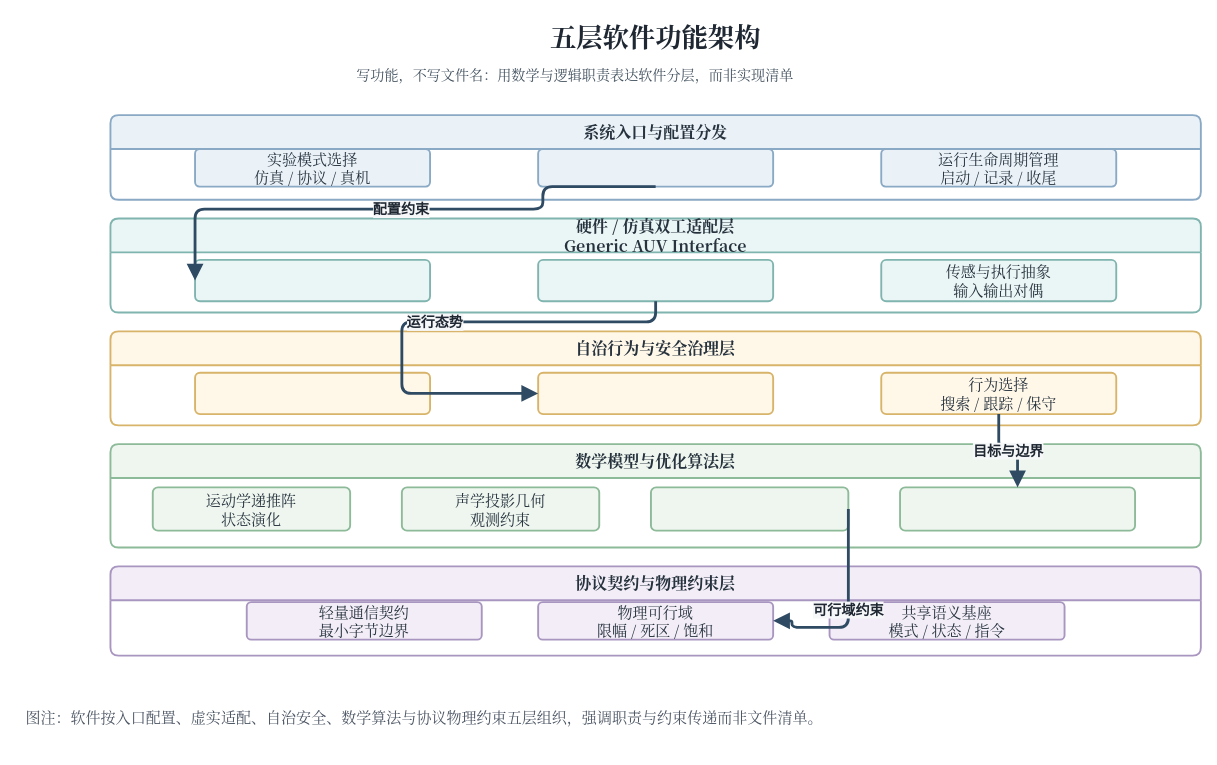
Image size: 1217x765. Some labels were removed from this diagram. Each missing label, with the centre of its shape:
任务状态机 阶段 / 模式 / 回退: pixel 312 393
参数一致性分发 场景 / 控制 / 安全: pixel 655 167
坐标与时间对齐 统一参考系: pixel 655 280
安全仲裁 权限 / 急停 / 降级: pixel 655 393
虚实统一接口 同一控制语义: pixel 312 280
误差状态滤波 不确定性传播: pixel 749 508
非线性时域优化器 安全平滑控制: pixel 1017 508
